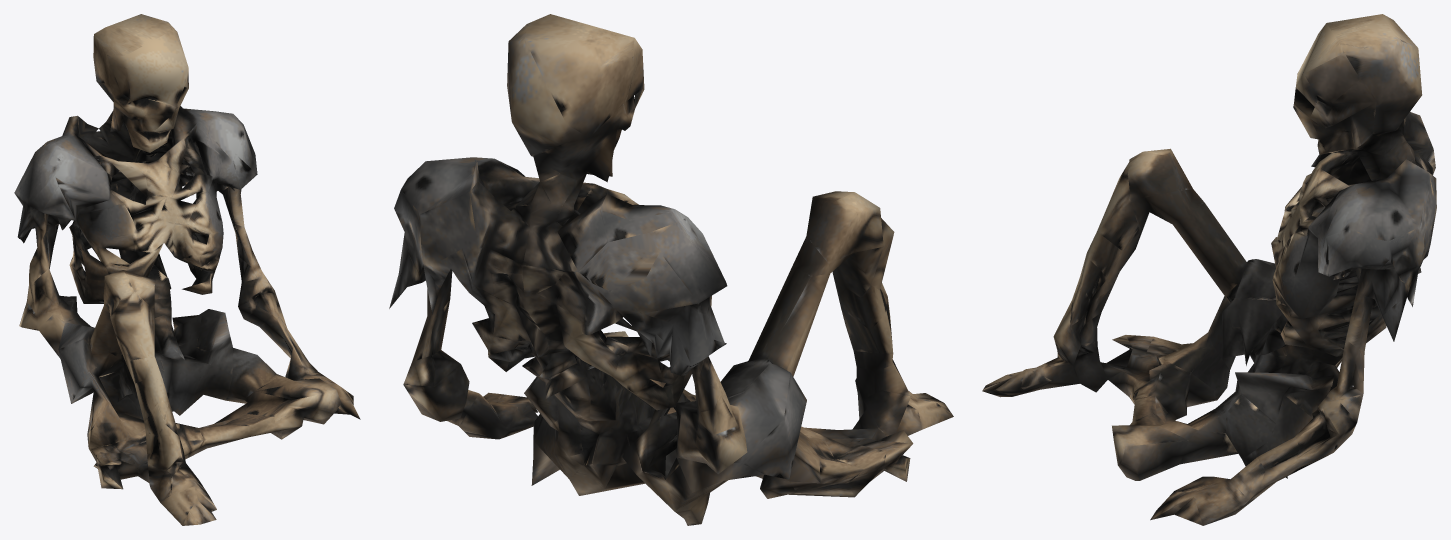
The model's file is skeletal_remains_seated.glb.
The picture shows the model from 3 angles, left to right: view 1: azimuth 30°, elevation 25°; view 2: azimuth 150°, elevation 25°; view 3: azimuth 270°, elevation 25°; orthographic projection. The views are drawn at different scales.
Bounding box in the file's own units: 1.62 × 1.95 × 1.92.
Materials: 1 (1 with a texture image).
